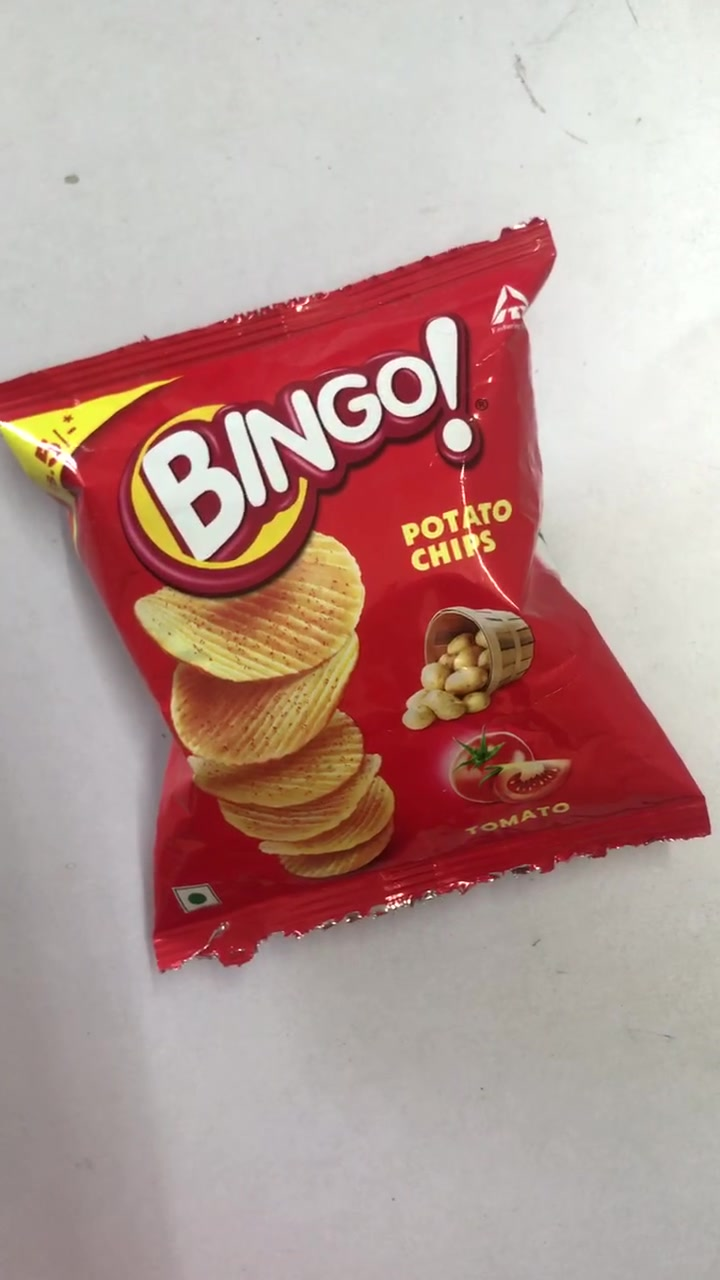Bingo: (6, 270, 712, 962)
